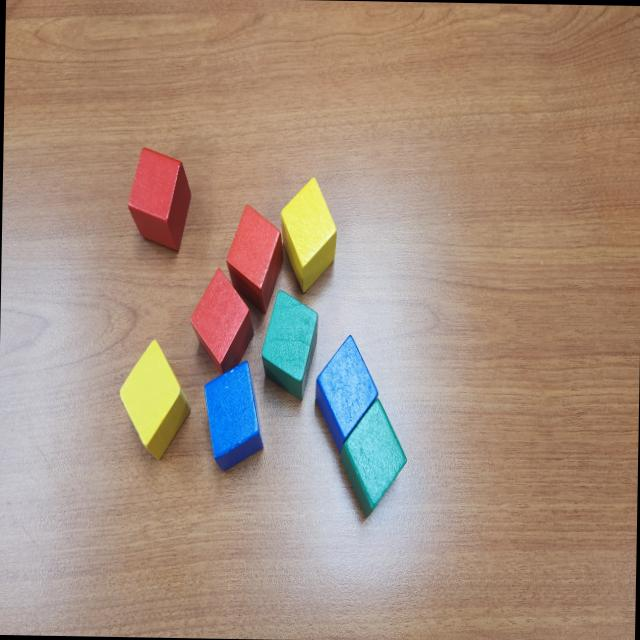blue: (313, 334, 379, 452), (203, 358, 264, 471)
green: (337, 397, 408, 521), (260, 288, 319, 401)
red: (190, 268, 255, 376), (126, 146, 192, 252), (225, 205, 284, 314)
yellow: (118, 338, 190, 460), (278, 178, 338, 294)
